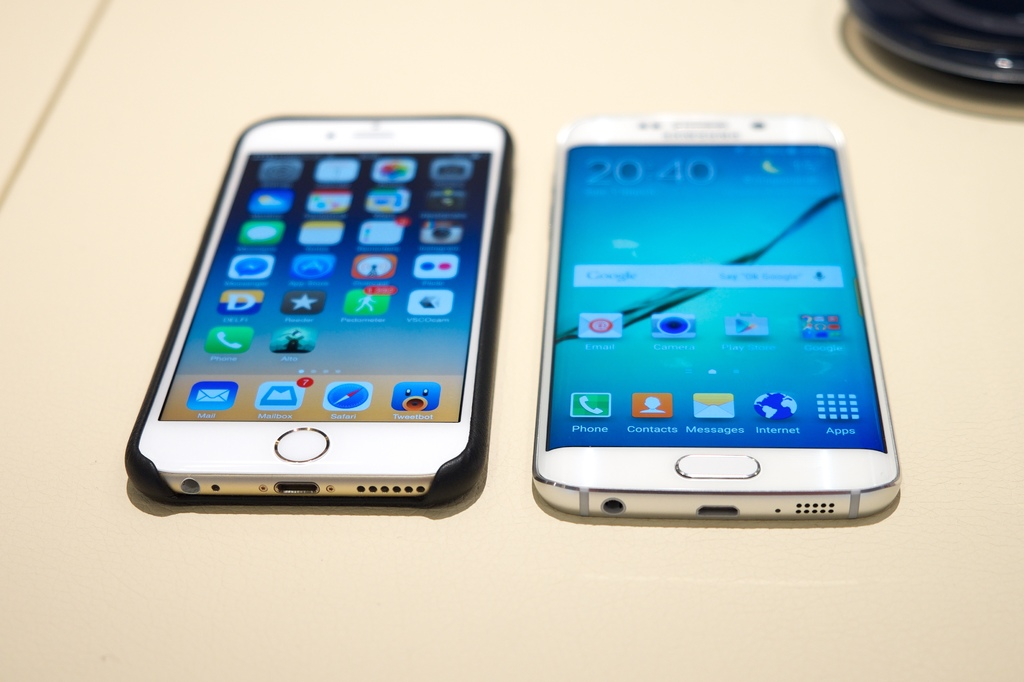mobile phone: (551, 115, 899, 525)
